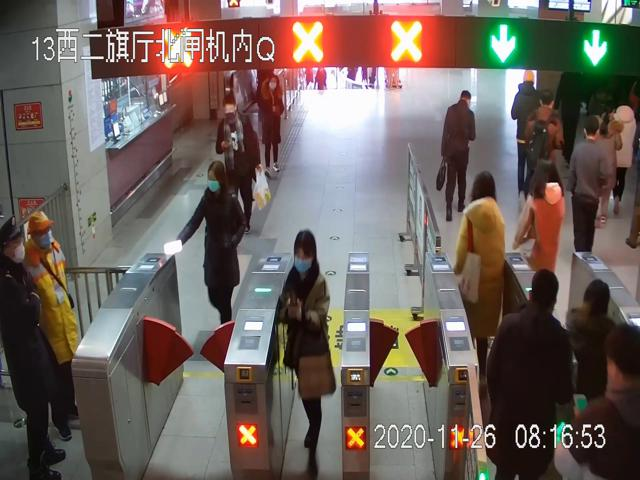person: (276, 230, 336, 477), (24, 211, 79, 444), (174, 161, 245, 332), (455, 170, 506, 393), (215, 94, 266, 235), (438, 88, 477, 220), (259, 75, 285, 180)
